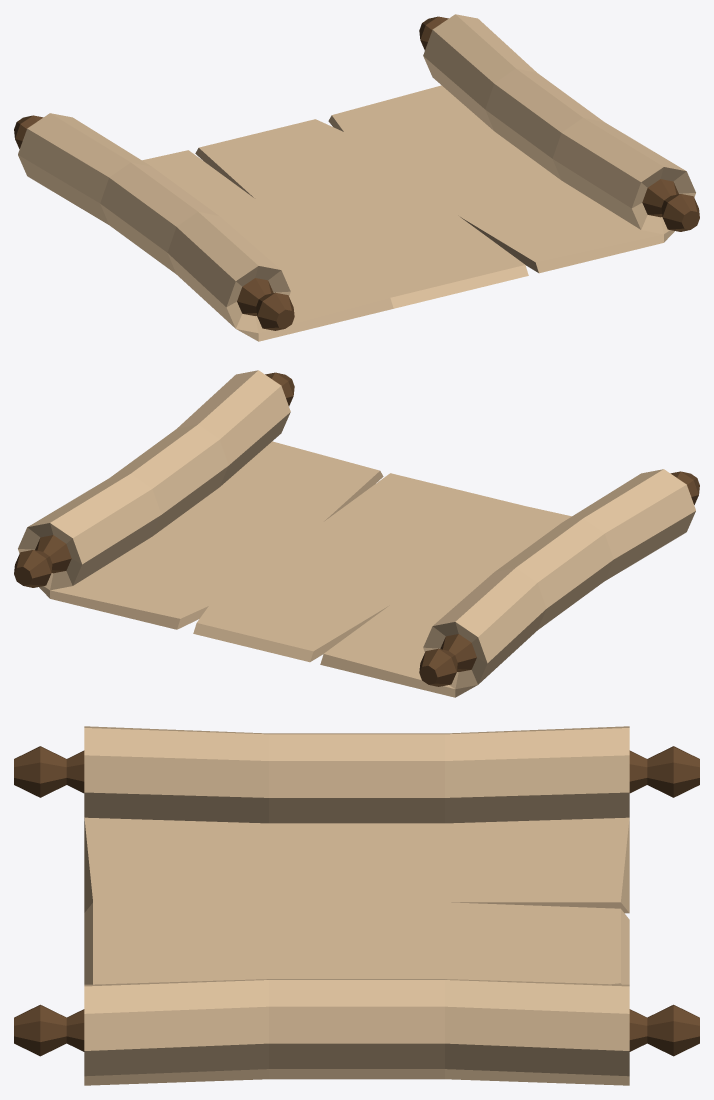
File: egypt-papyrus.glb
The picture shows the model from 3 angles, top to bottom: view 1: azimuth 30°, elevation 25°; view 2: azimuth 150°, elevation 25°; view 3: azimuth 270°, elevation 25°; orthographic projection. The views are drawn at different scales.
Parts seen in each view (by area): view 1: egypt-papyrus; view 2: egypt-papyrus; view 3: egypt-papyrus.
Part boxes in pixels (x1=…): egypt-papyrus: x1=14, y1=14, x2=699, y2=341; egypt-papyrus: x1=14, y1=370, x2=699, y2=697; egypt-papyrus: x1=14, y1=726, x2=699, y2=1085.
Size of the model in its own units: 0.7864 by 0.1215 by 0.7607.
1 material, 1 textured.
